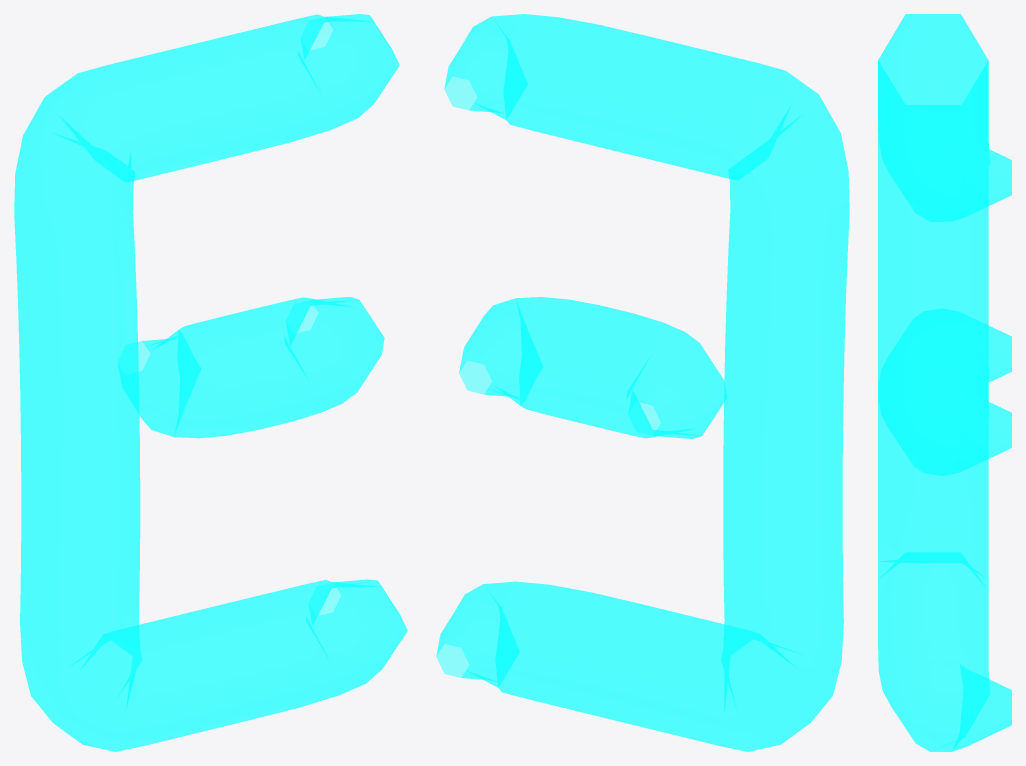
3 views of the same model, side by side, from view 1: azimuth 30°, elevation 25°; view 2: azimuth 150°, elevation 25°; view 3: azimuth 270°, elevation 25° (orthographic). The views are drawn at different scales.
Parts seen in each view (by area): view 1: Object_16; view 2: Object_16; view 3: Object_16.
Part boxes in pixels (bbox=[...]): Object_16: bbox=[14, 14, 407, 751]; Object_16: bbox=[436, 14, 849, 751]; Object_16: bbox=[878, 14, 1011, 751].
Bounding box in the file's own units: 0.5199 × 0.866 × 0.1712.
